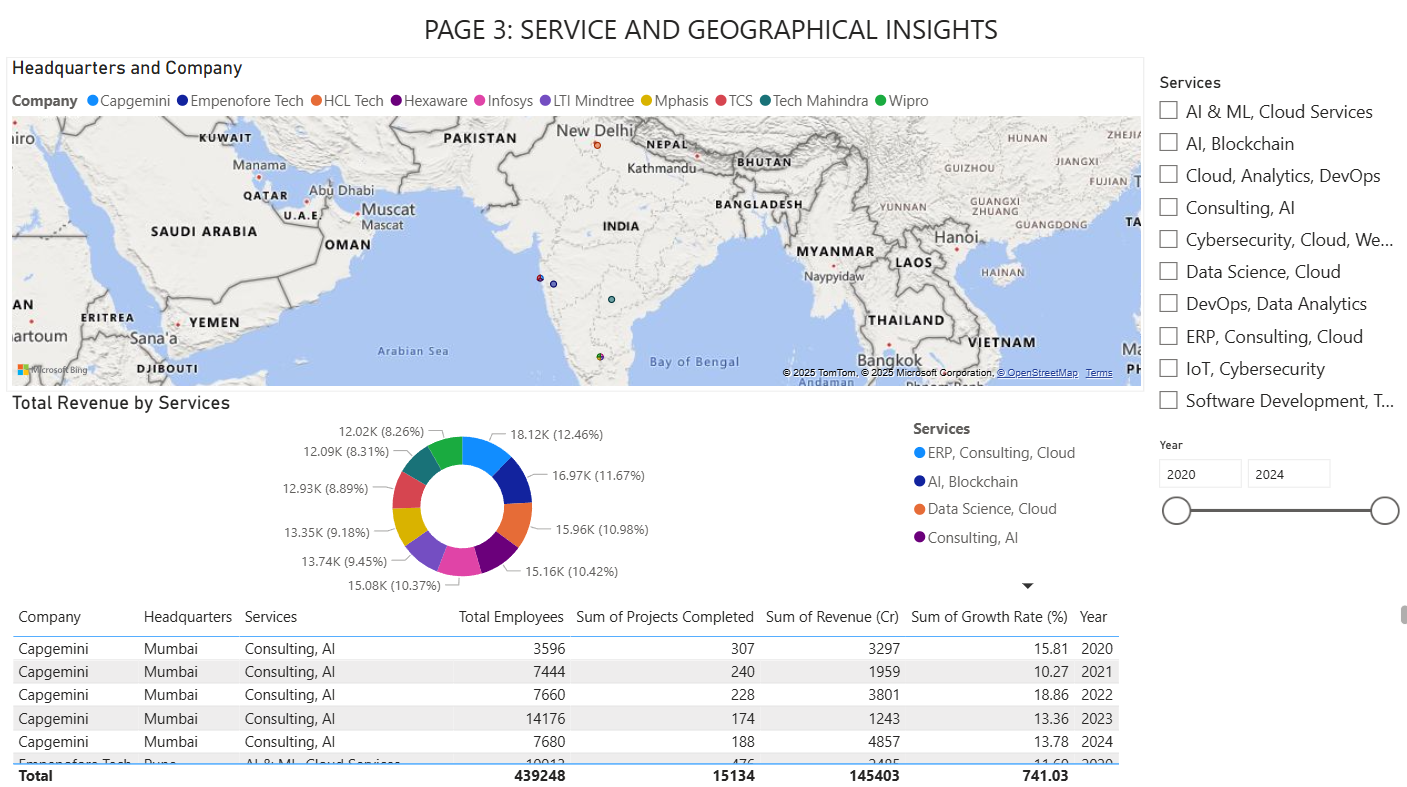

This screenshot's page, from the dashboard's own definition file:
{"tool":"powerbi","page":{"name":"Page 3","canvas":[1280,720],"ordinal":2},"visuals":[{"type":"map","fields":{"Series":["Sheet1.Company"],"Category":["Sheet1.Headquarters"]},"box":[9.6,57.6,1027.8,301.9],"z":0},{"type":"donutChart","fields":{"Category":["Sheet1.Services"],"Y":["Sheet1.Total Revenue"]},"box":[9.6,359.5,1027.8,188],"z":1000},{"type":"slicer","fields":{"Values":["Sheet1.Services"]},"box":[1037.4,67.2,234.6,319.7],"z":2000},{"type":"slicer","fields":{"Values":["Sheet1.Year"]},"box":[1037.4,395.2,237.4,122.1],"z":3000},{"type":"textbox","box":[9.6,11,1270.7,46.7],"z":4000},{"type":"tableEx","fields":{"Values":["Sheet1.Company","Sheet1.Headquarters","Sheet1.Services","Sheet1.Total Employees","Sum(Sheet1.Projects Completed)","Sum(Sheet1.Revenue (Cr))","Sum(Sheet1.Growth Rate (%))","Sheet1.Year"]},"box":[9.8,546.6,1270.5,173.6],"z":5000}]}

Visuals, with their boxes in screenshot pixels (x1, y1, x2, y2), scaled from the page's 1280x720 canvas onto the 1407x787 screenshot:
map - Sheet1.Company x Sheet1.Headquarters: (11, 63, 1140, 393)
donutChart - Sheet1.Services x Sheet1.Total Revenue: (11, 393, 1140, 598)
slicer - Sheet1.Services: (1140, 73, 1398, 423)
slicer - Sheet1.Year: (1140, 432, 1401, 565)
textbox: (11, 12, 1406, 63)
tableEx - Sheet1.Company x Sheet1.Headquarters: (11, 597, 1406, 786)
